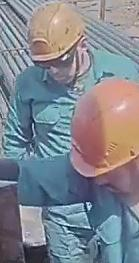goggles: (28, 53, 81, 69)
helmet: (69, 77, 138, 177), (27, 0, 84, 61)
vest: (15, 55, 133, 228), (88, 179, 139, 262)
